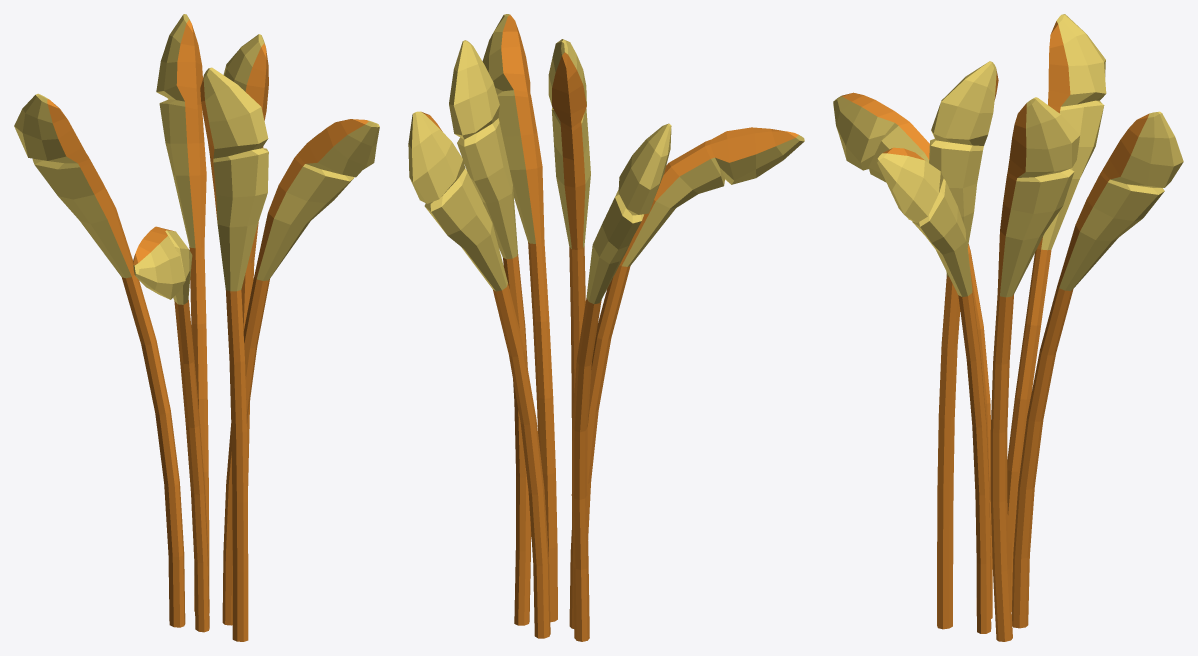
The model's file is Gras_02_Var_03.fbx.
The picture shows the model from 3 angles, left to right: view 1: azimuth 30°, elevation 25°; view 2: azimuth 150°, elevation 25°; view 3: azimuth 270°, elevation 25°; orthographic projection. The views are drawn at different scales.
Visible parts, largest first — view 1: Gras_02_Var_03; view 2: Gras_02_Var_03; view 3: Gras_02_Var_03.
Boxes of the visible parts, <box> form: Gras_02_Var_03: <box>14,14,379,641</box>; Gras_02_Var_03: <box>408,14,804,641</box>; Gras_02_Var_03: <box>833,14,1183,641</box>.
Size of the model in its own units: 0.2403 by 0.4251 by 0.218.
